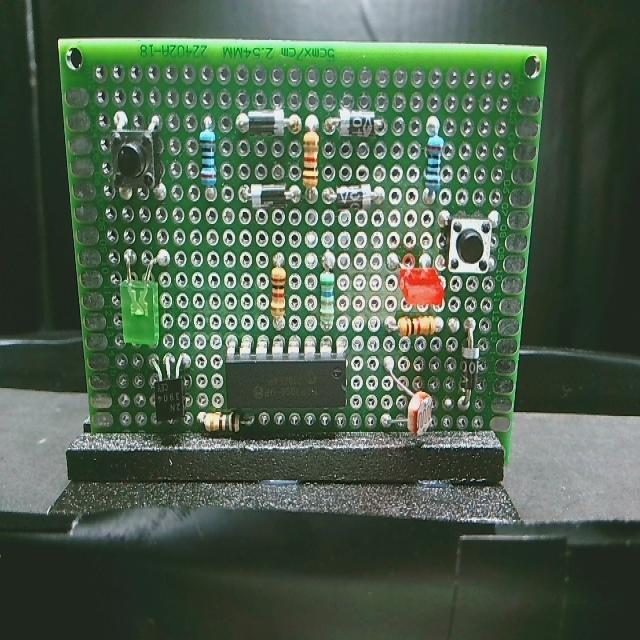IC: (219, 342, 350, 412)
cds: (396, 377, 434, 446)
diode: (237, 98, 286, 145), (334, 101, 380, 142), (456, 334, 483, 396), (248, 179, 291, 211), (332, 184, 374, 216)
led: (113, 264, 166, 351), (394, 253, 444, 310)
resistor: (265, 259, 290, 330), (298, 128, 322, 199), (193, 406, 243, 438), (194, 128, 220, 188), (389, 316, 445, 339), (426, 126, 445, 193), (317, 261, 337, 322)
switch: (107, 121, 164, 193), (446, 214, 500, 290)
transistor: (144, 349, 192, 435)
